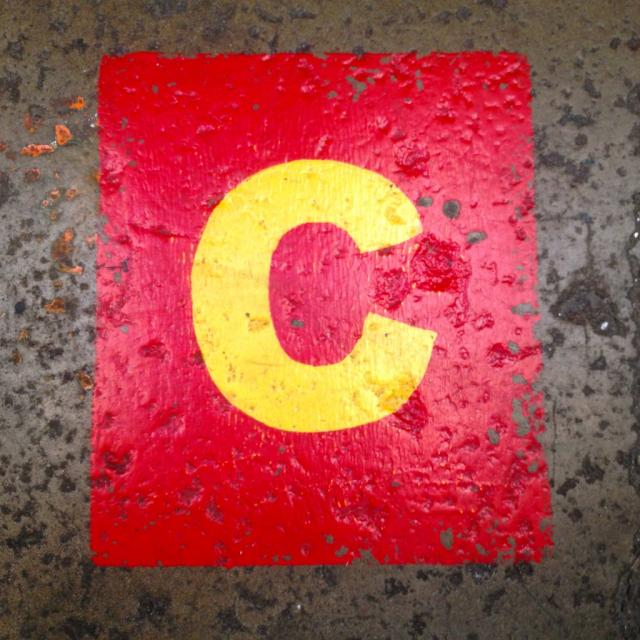C: (157, 132, 458, 472)
